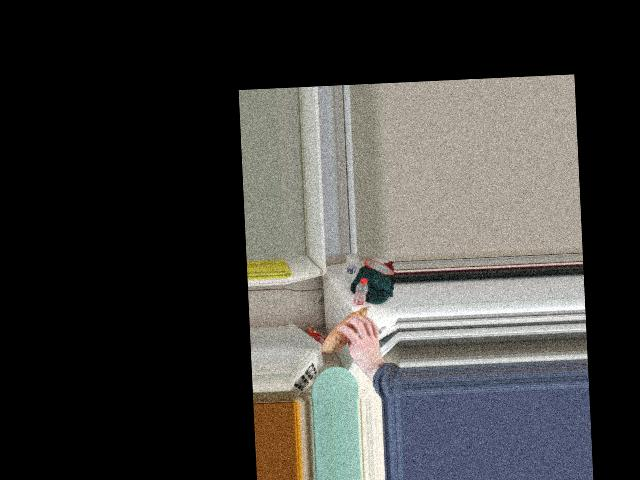sweet_potato: (322, 307, 374, 352)
